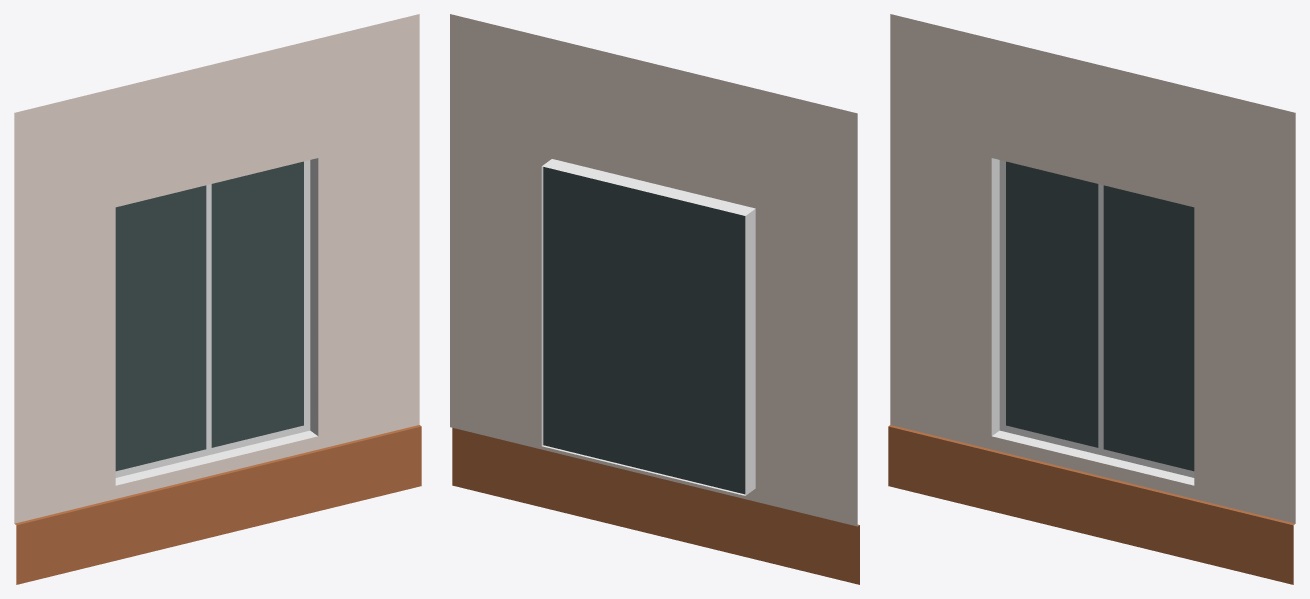
3 views of the same model, side by side, from view 1: azimuth 30°, elevation 25°; view 2: azimuth 150°, elevation 25°; view 3: azimuth 330°, elevation 25° (orthographic).
Parts seen in each view (by area): view 1: a2000s2/200/base-w3; view 2: a2000s2/200/base-w3; view 3: a2000s2/200/base-w3.
Part boxes in pixels (bbox=[...]): a2000s2/200/base-w3: bbox=[14, 14, 421, 584]; a2000s2/200/base-w3: bbox=[450, 14, 859, 584]; a2000s2/200/base-w3: bbox=[888, 14, 1295, 584].
Bounding box in the file's own units: 3.2 × 3.55 × 0.17.
